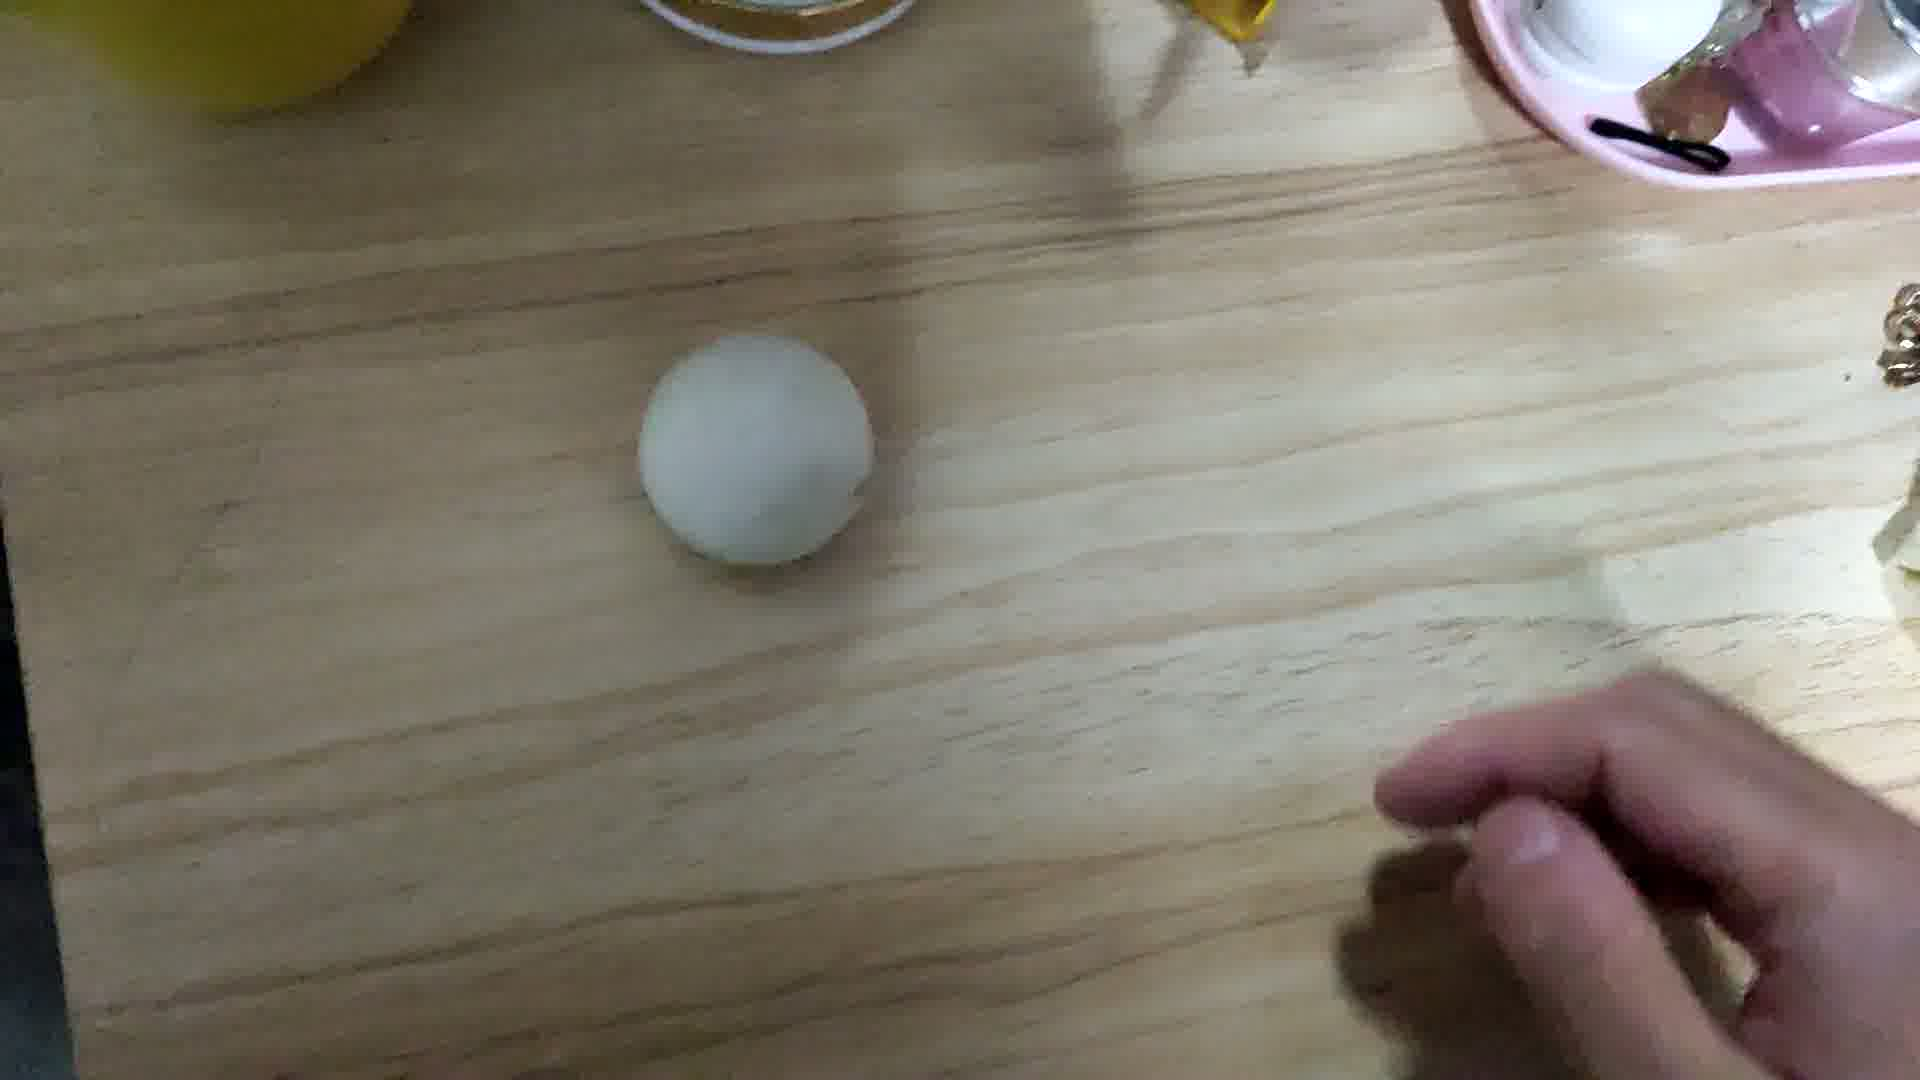Ball: (638, 335, 877, 568)
